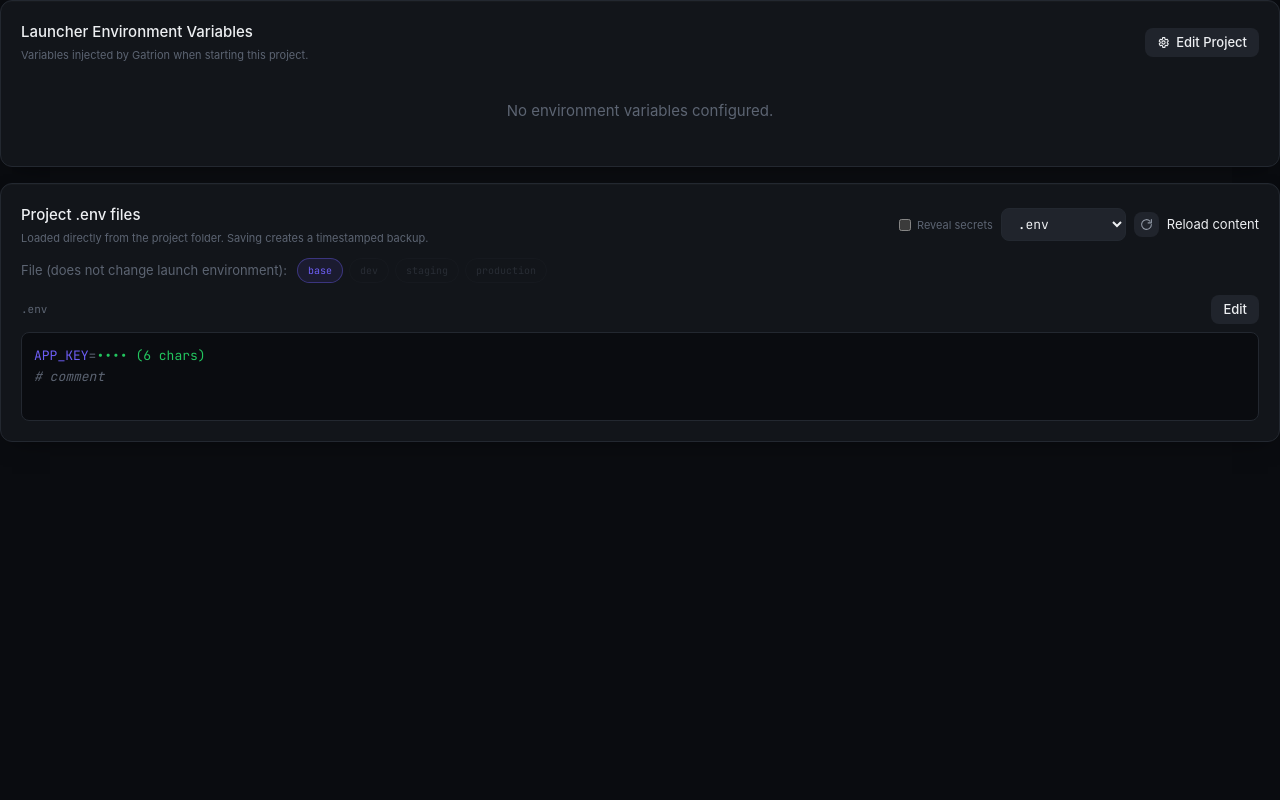
EnvironmentTab env files › disables missing file chips and protects a draft from list refresh
This screenshot has width=1280, height=800.
Expected: the text "APP_KEY" is shown, [34,347,89,364]
Expected: the button "production" is disabled, [465,258,547,283]
Click the button "Edit" at (1235, 310), box [1211,295,1259,324]
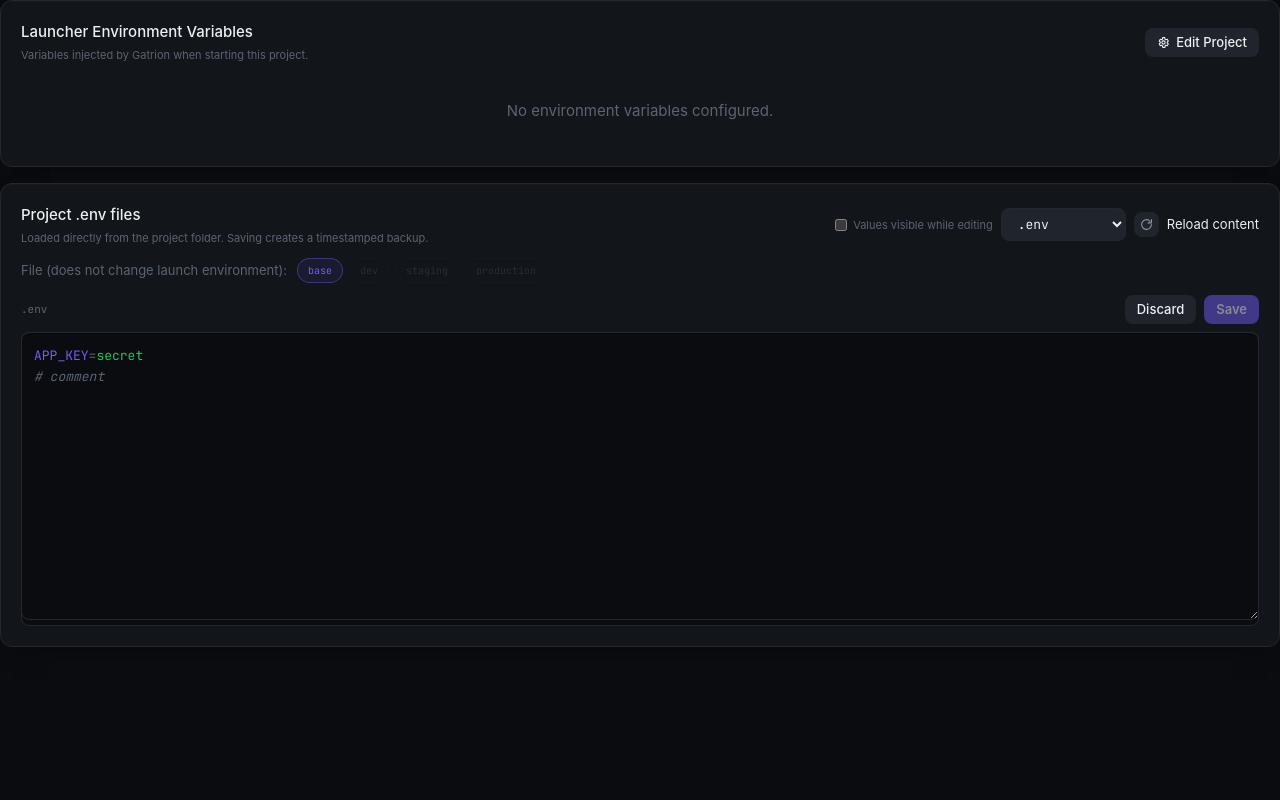
Replace the text in the text box named "Edit .env" with "DRAFT=1" at (640, 476), box [21,332,1259,620]
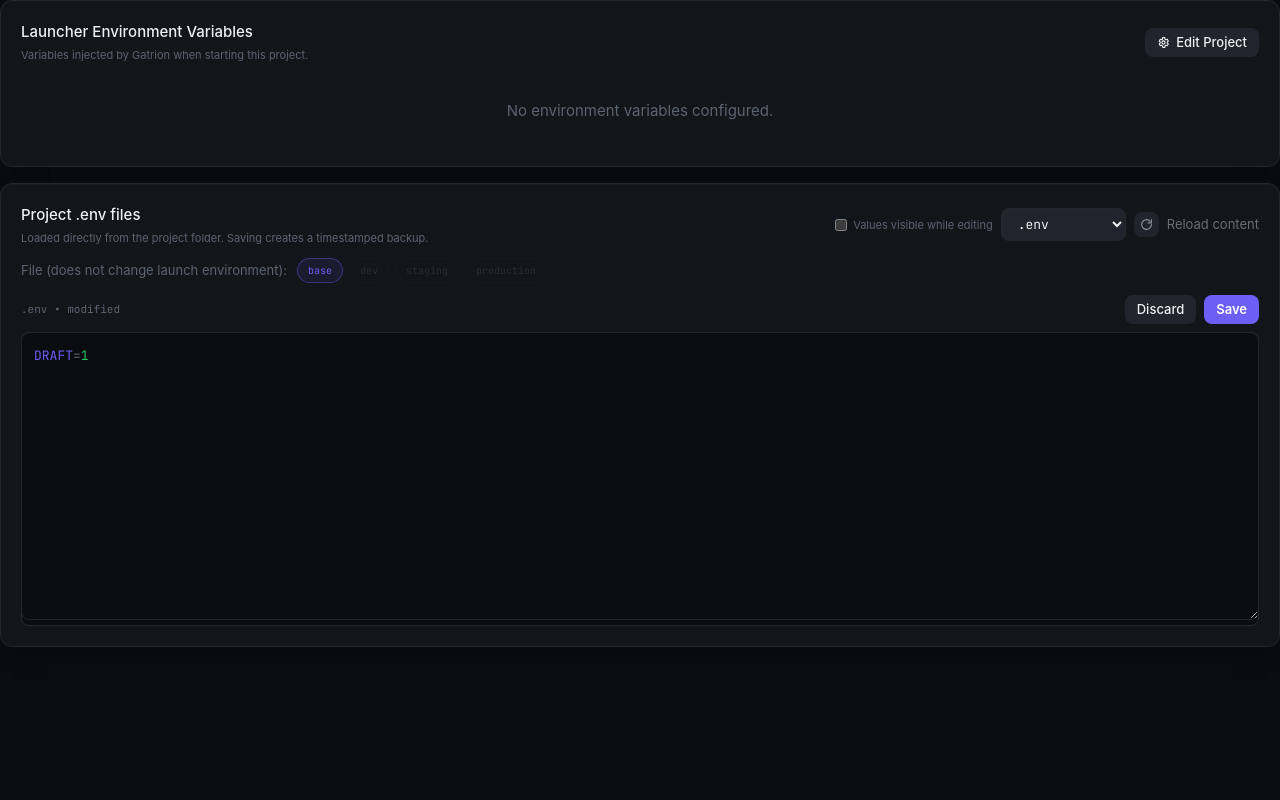
Expected: the button named "Reload env file list" is disabled, [1134,212,1159,237]
Now the button "Reload content" is disabled, box [1167,216,1259,233]
Click the button "Save" at (1232, 310), box [1204,295,1259,324]
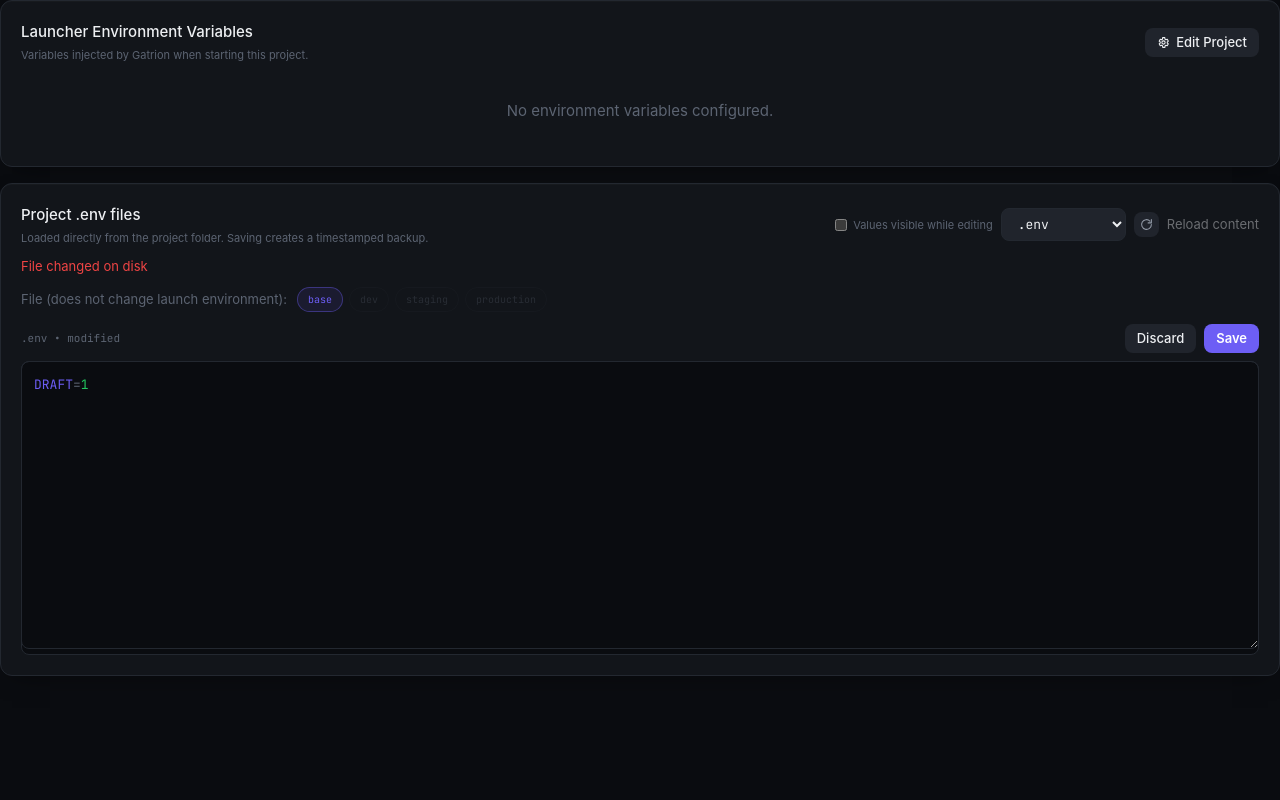
Now the message reads "File changed on disk", box [21,258,148,274]
